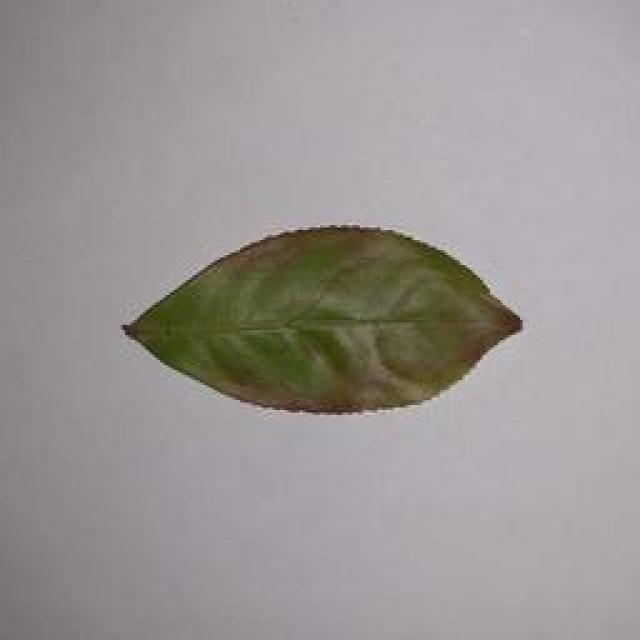Red Leaf Spot: (87, 212, 623, 427)
